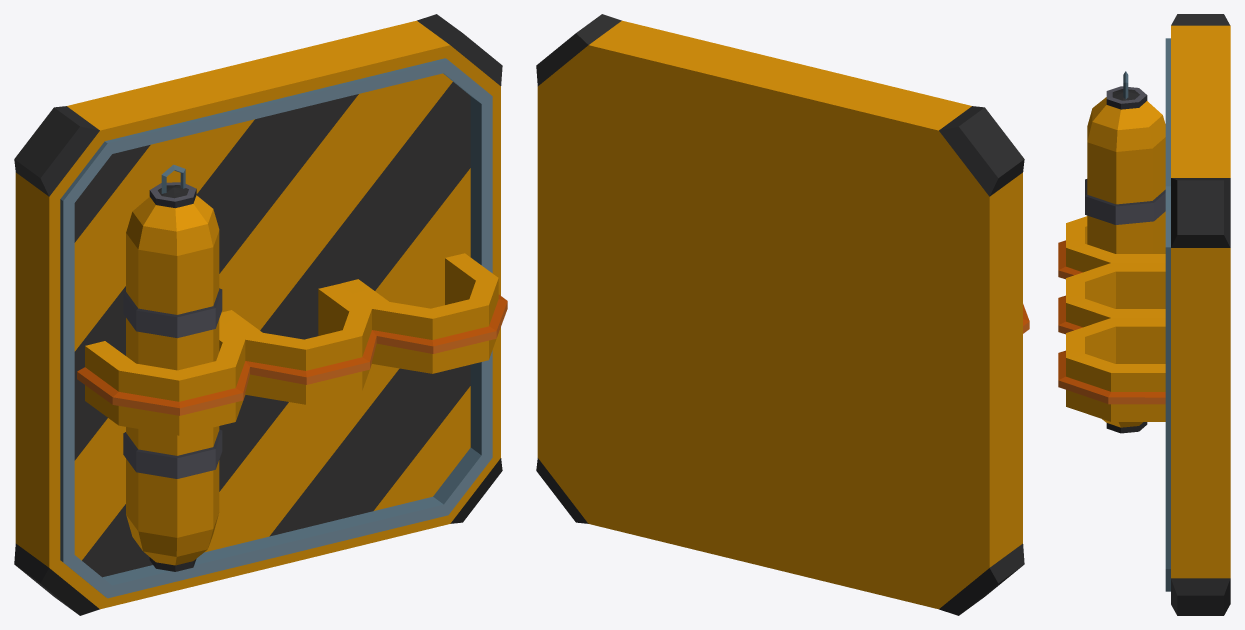
File: OxygenWall_01.glb
3 renders of one model, left to right at view 1: azimuth 30°, elevation 25°; view 2: azimuth 150°, elevation 25°; view 3: azimuth 270°, elevation 25°, orthographic. The views are drawn at different scales.
Visible parts, largest first — view 1: OxygenWall_01; view 2: OxygenWall_01; view 3: OxygenWall_01.
Part boxes in pixels (left/top/right/bottom): OxygenWall_01: left=14, top=14, right=507, bottom=615; OxygenWall_01: left=536, top=14, right=1029, bottom=615; OxygenWall_01: left=1058, top=14, right=1230, bottom=615.
Size of what is drawn, in the model's own units: 1.89 by 1.92 by 0.6861.
Materials: 1 (1 with a texture image).
